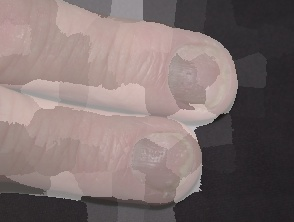Nail_psoriasis: (140, 18, 255, 134), (113, 115, 212, 212)
